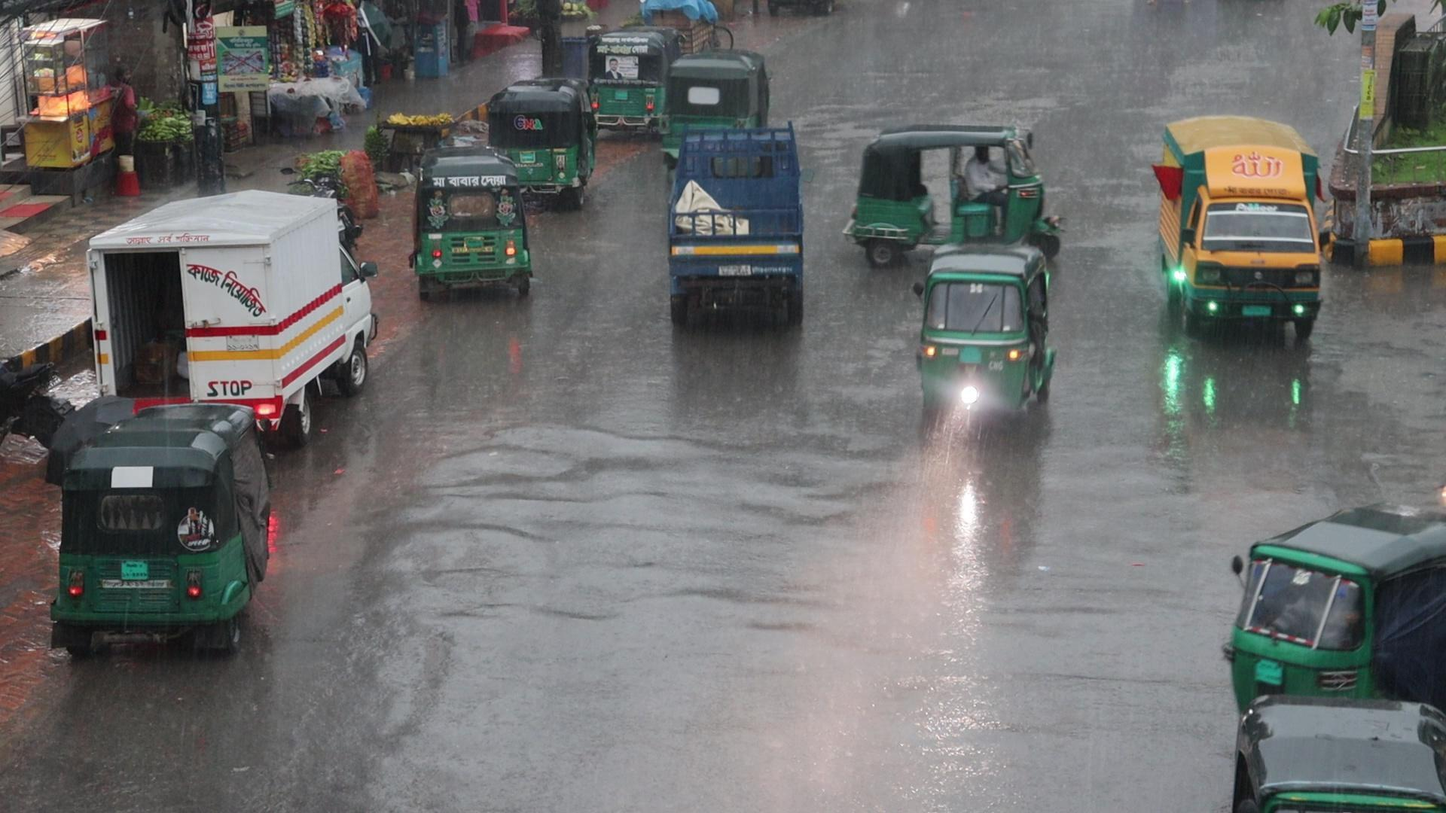Truck: (1154, 108, 1328, 341), (662, 119, 809, 329)
